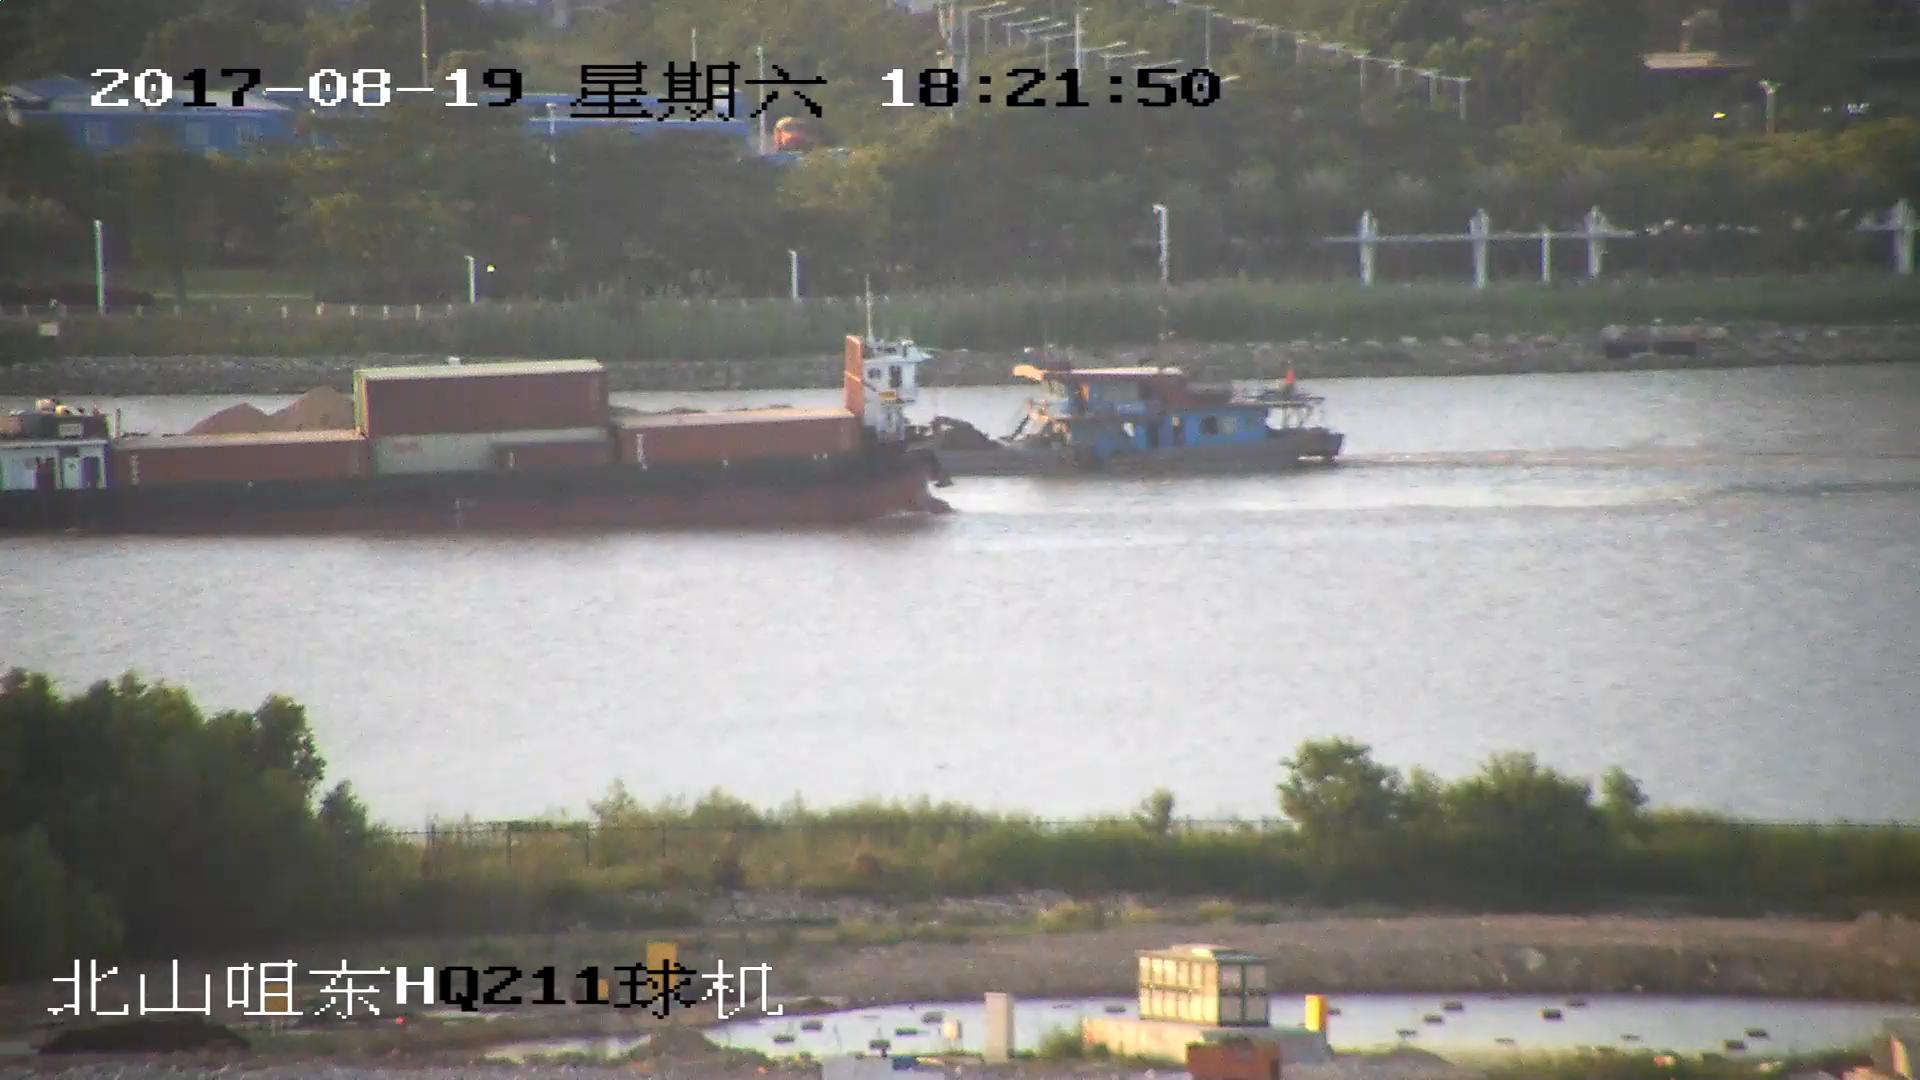container ship: (1, 330, 956, 533)
